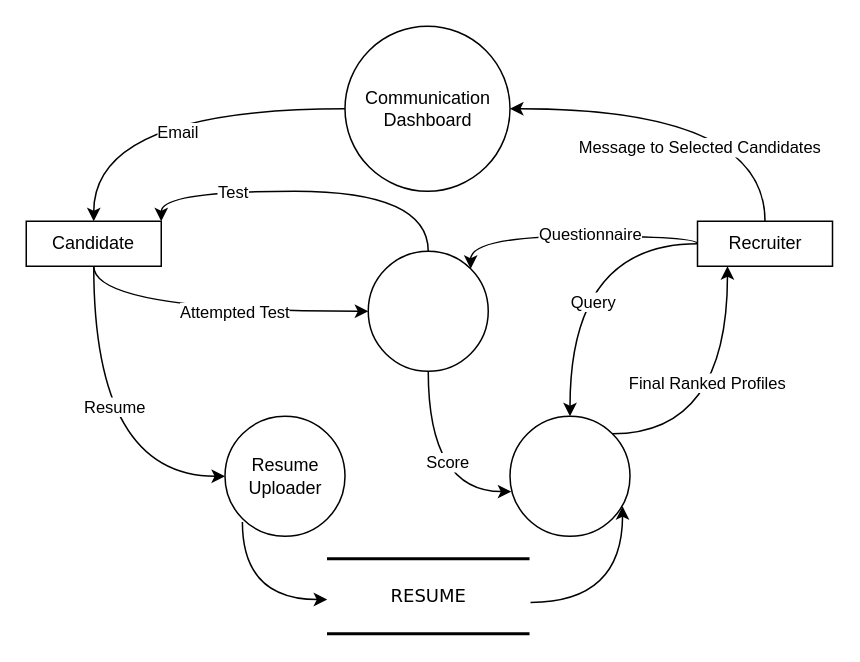
The diagram is 860 pixels wide and 662 high, and some of its shapes have lost their labels. Here are the shapes that lost their labels. From the top down, the box of each, then its label:
(367, 250, 488, 371): Testing System
(508, 415, 630, 536): Ranking System
